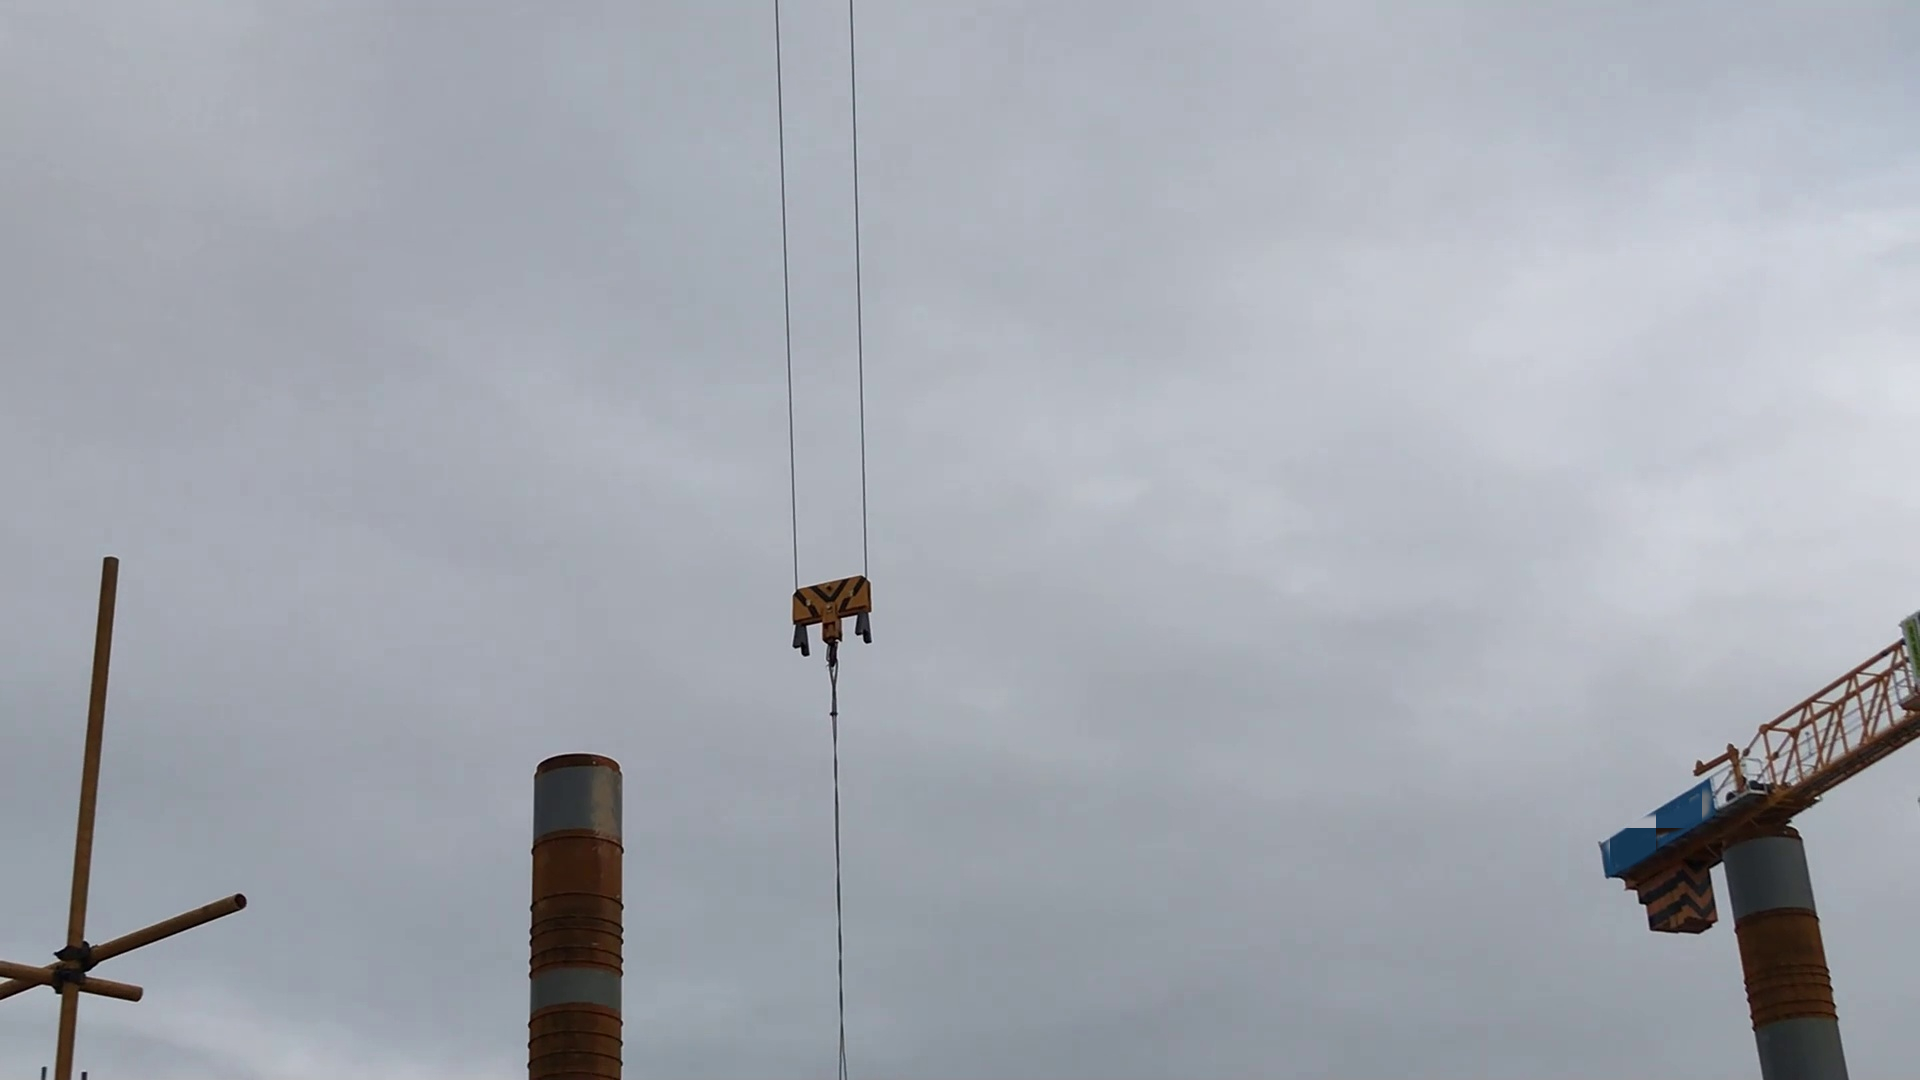hook: (777, 576, 882, 674)
